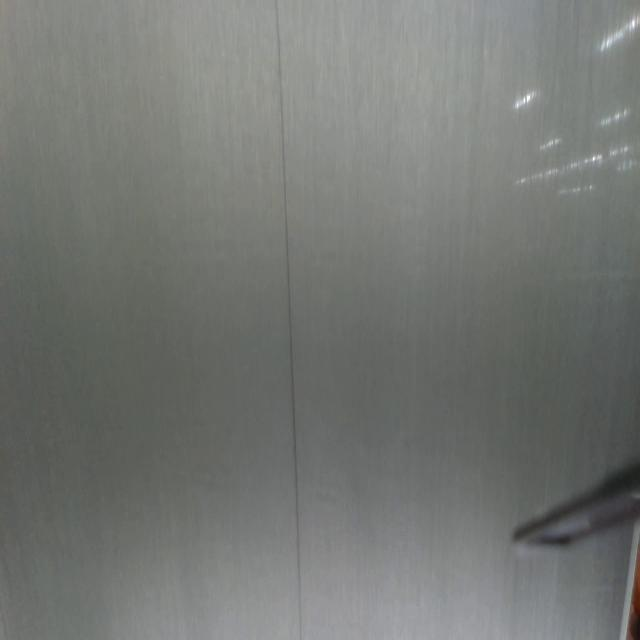crease: (274, 2, 304, 640)
